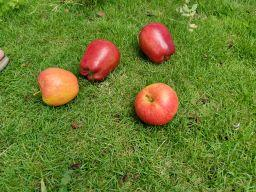apple: (21, 61, 90, 118), (128, 72, 188, 133), (125, 10, 186, 69), (70, 32, 127, 88)
